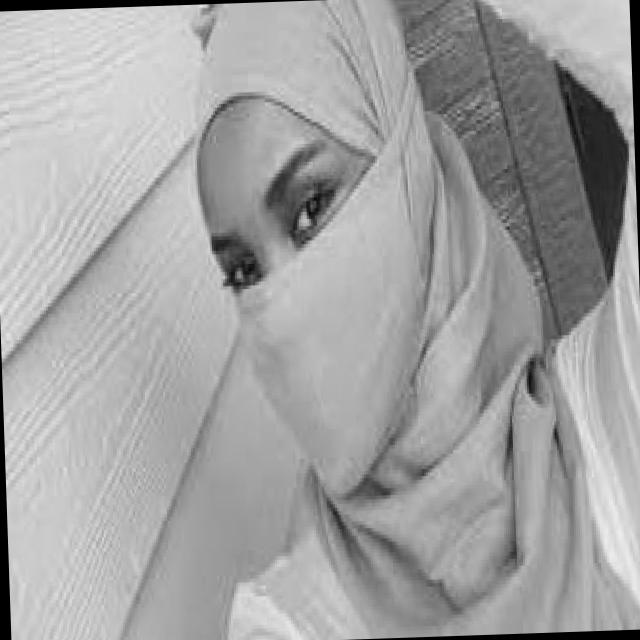Focused: (201, 112, 367, 350)
